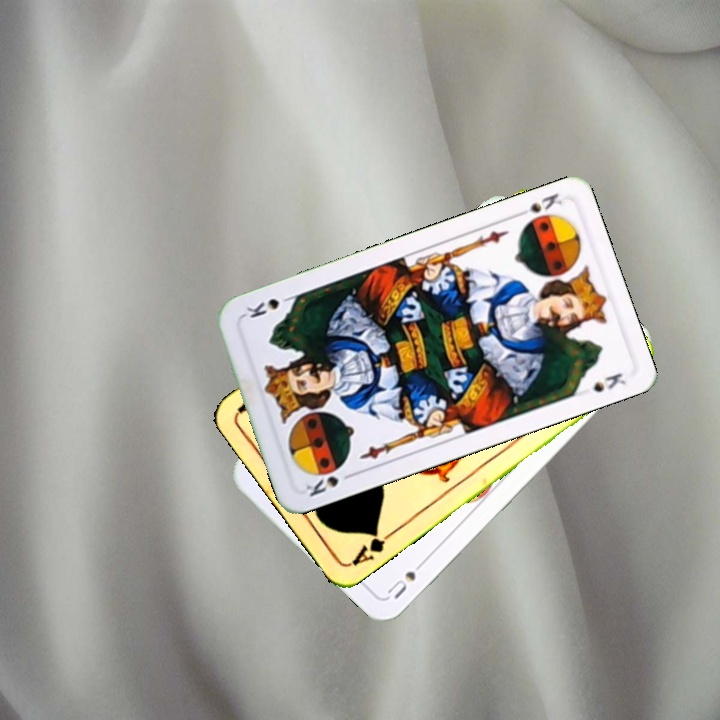GA: (347, 525, 398, 569)
SK: (301, 468, 358, 500), (511, 189, 565, 221)
SU: (383, 554, 430, 602)
